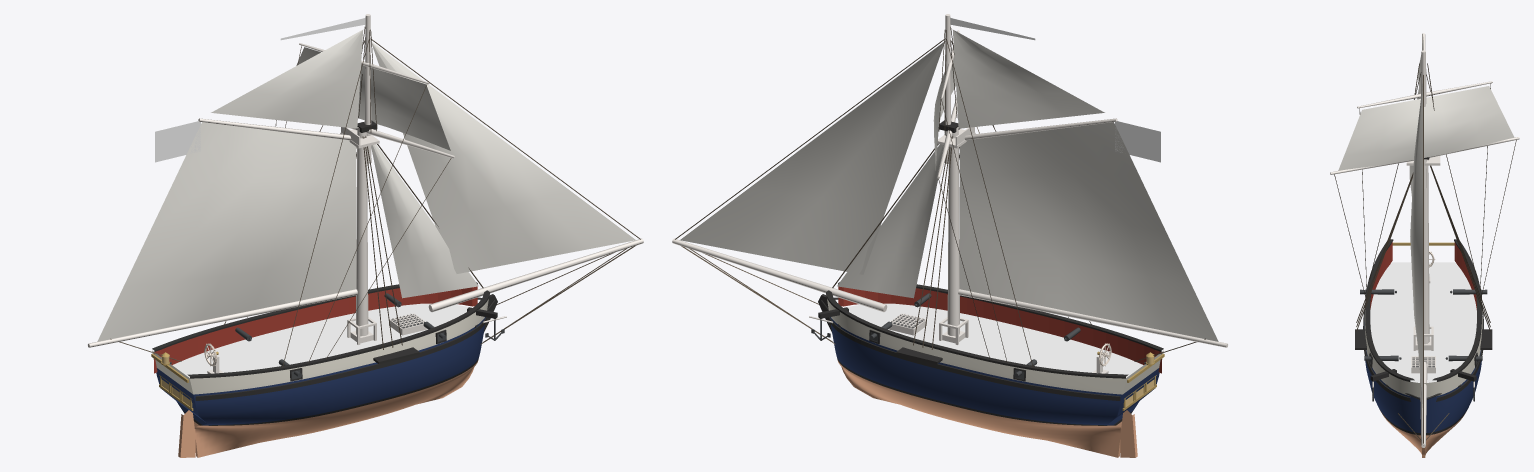
Rendered from revenue_lod1.glb.
The picture shows the model from 3 angles, left to right: view 1: azimuth 30°, elevation 25°; view 2: azimuth 150°, elevation 25°; view 3: azimuth 270°, elevation 25°; orthographic projection. The views are drawn at different scales.
Parts seen in each view (by area): view 1: SM_Revenue_LOD1; view 2: SM_Revenue_LOD1; view 3: SM_Revenue_LOD1.
Boxes of the visible parts, left/top/right/bottom form: SM_Revenue_LOD1: left=88, top=14, right=643, bottom=457; SM_Revenue_LOD1: left=672, top=14, right=1227, bottom=457; SM_Revenue_LOD1: left=1330, top=33, right=1519, bottom=457.
Size of the model in its own units: 29.9 by 18.2 by 8.45.
